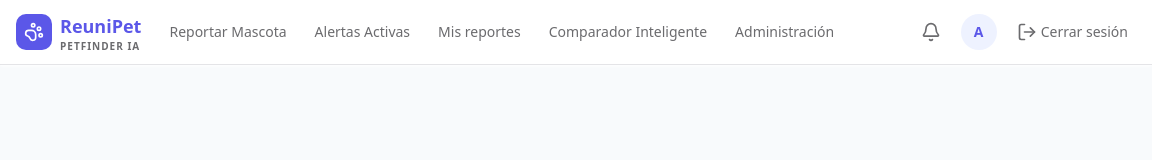
Test case: AppNavbar (HU18) › cerrar sesión borra también el rol
The image size is (1152, 160).
Click the button "Cerrar sesión": (1072, 32) [1009,14,1136,50]
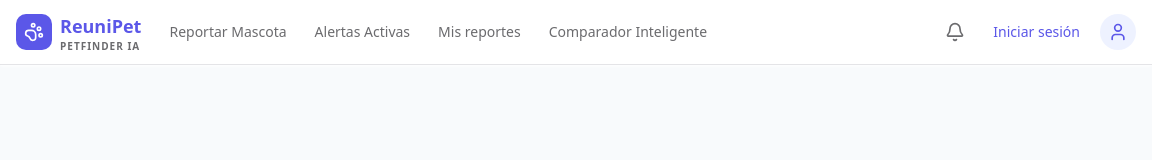
Expected: the link "Administración" is gone
